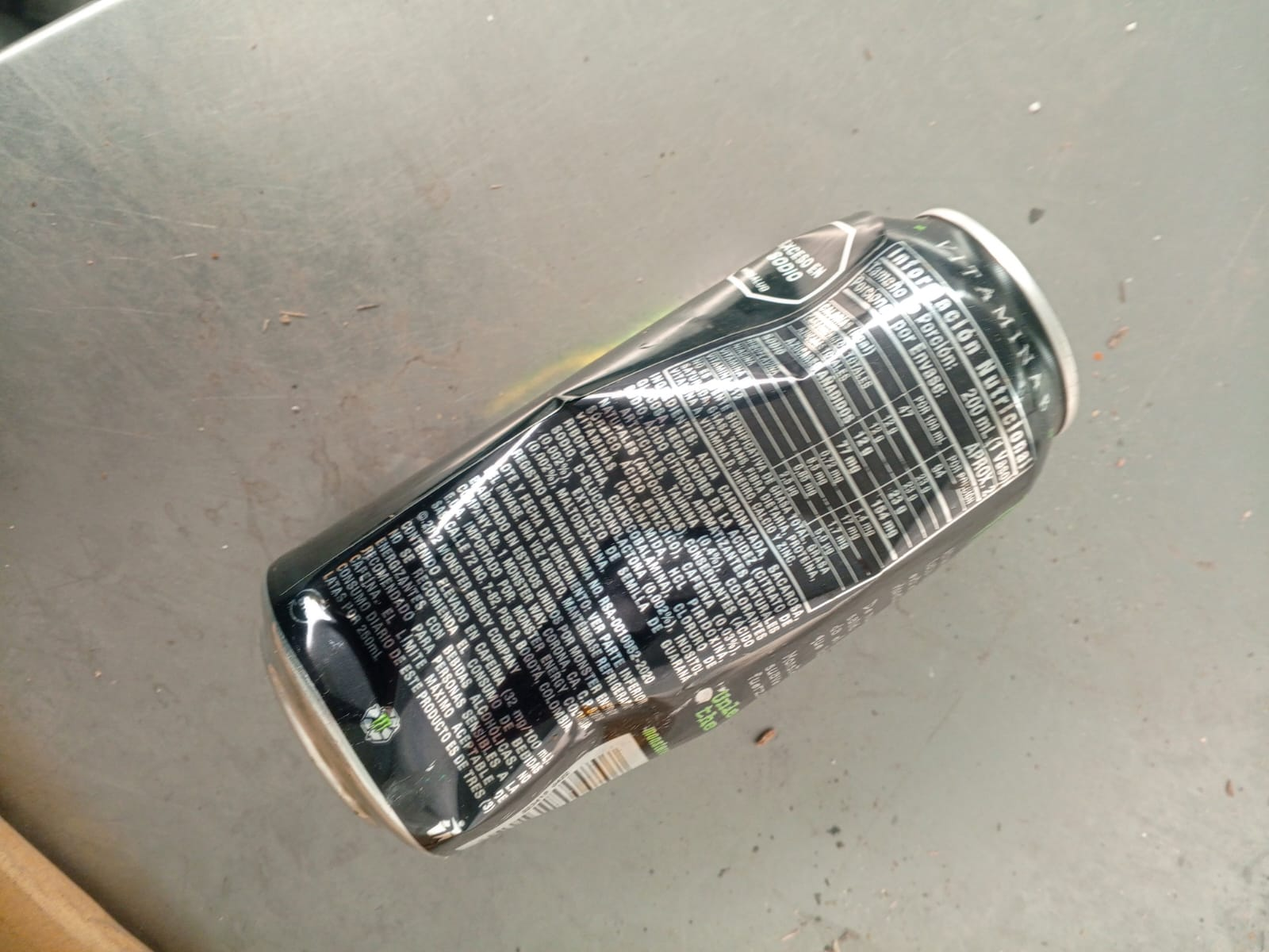Metal: (263, 210, 1079, 859)
